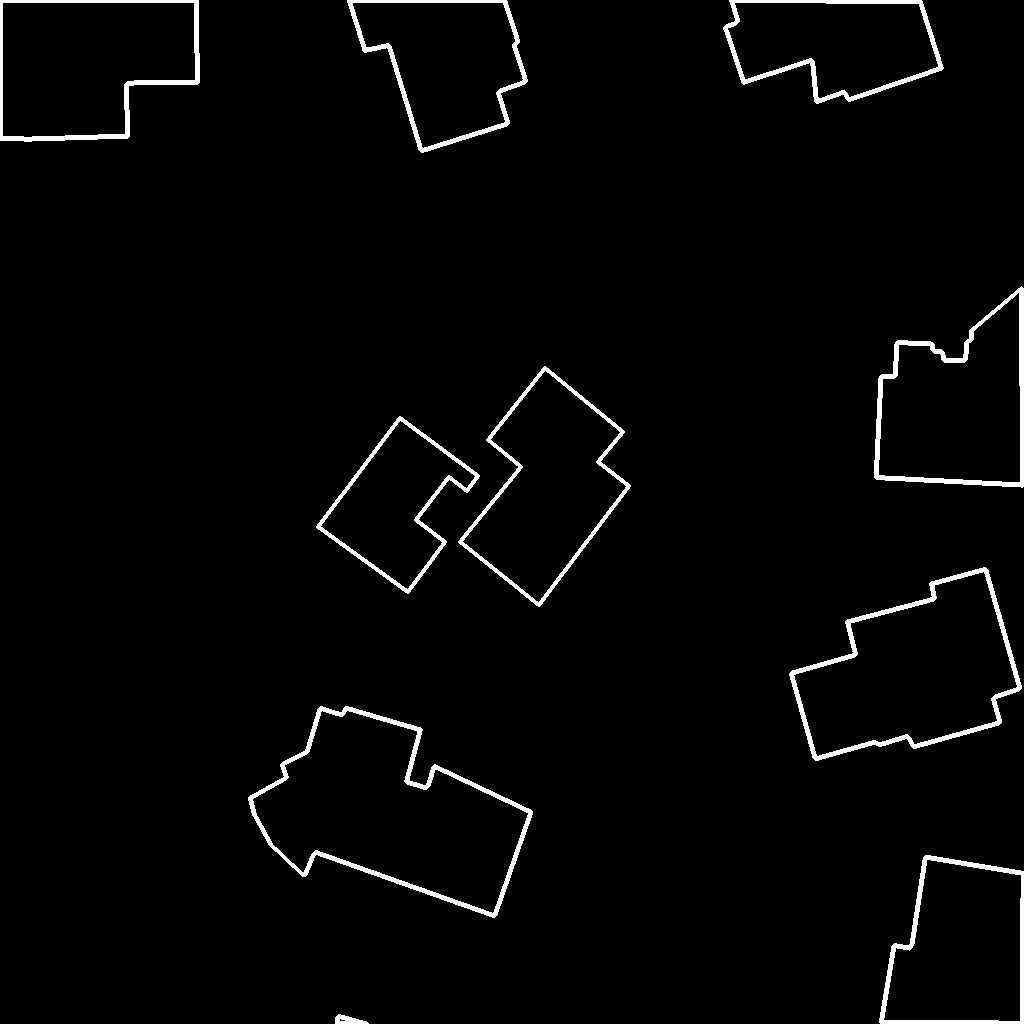building: (250, 708, 532, 917), (791, 569, 1021, 760), (460, 368, 630, 606), (876, 288, 1024, 486), (318, 418, 479, 593), (0, 0, 199, 140), (349, 0, 527, 152), (881, 857, 1024, 1024), (725, 0, 943, 103), (337, 1016, 368, 1024)
